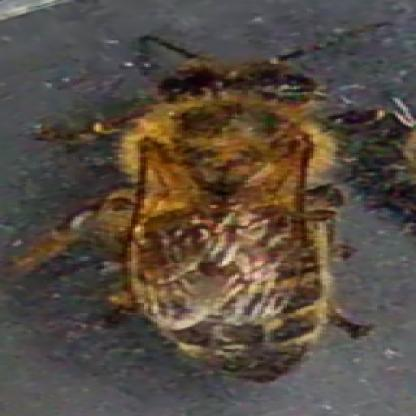bee: (109, 53, 342, 390)
